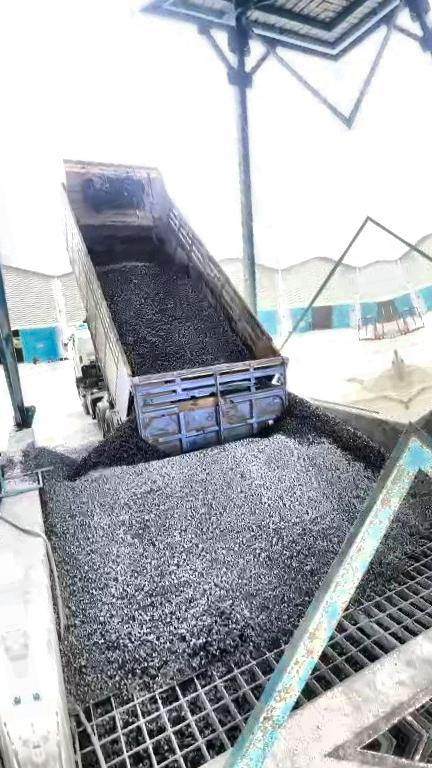gravel: (22, 394, 390, 703), (98, 256, 254, 374), (360, 474, 432, 596)
sand: (331, 360, 409, 420)
